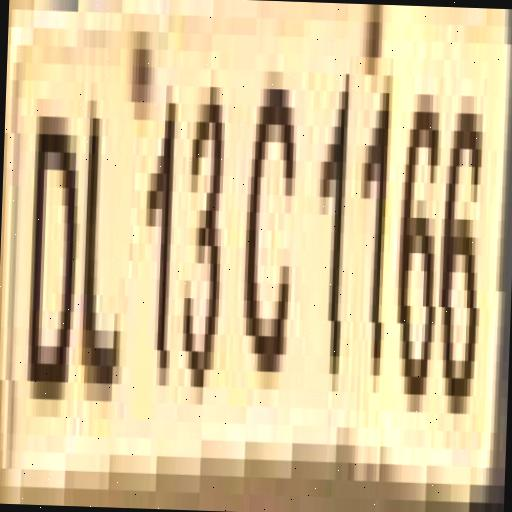number plate: (7, 0, 512, 503)
